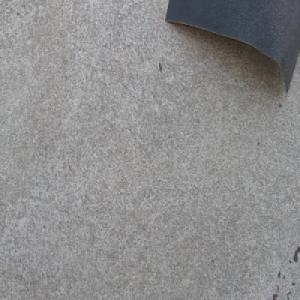PaintChip: (164, 0, 300, 99)
